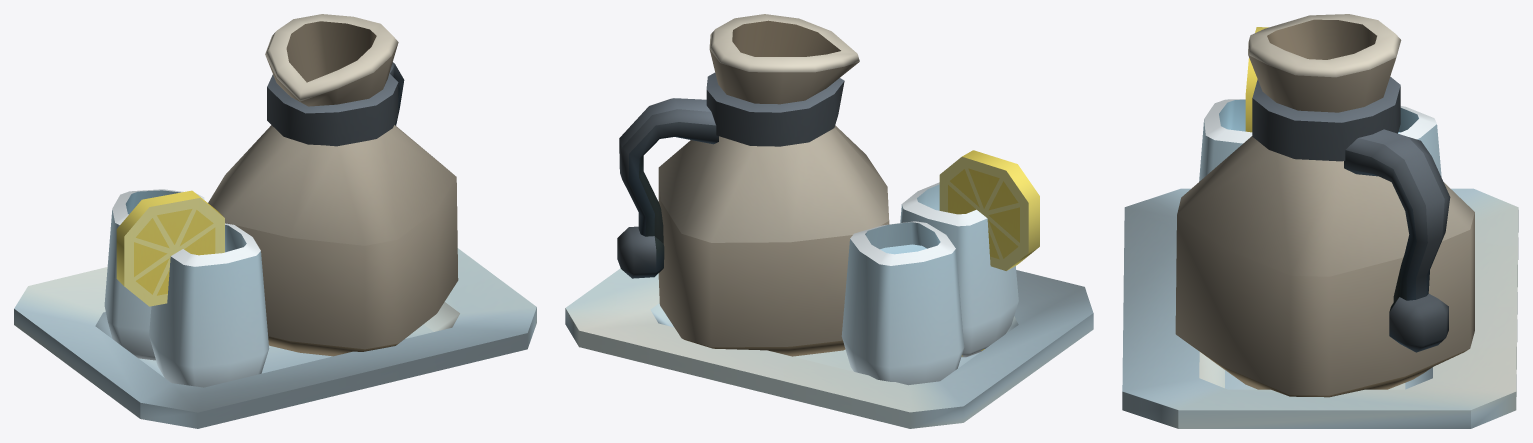
File: tray_water.fbx
3 renders of one model, left to right at view 1: azimuth 30°, elevation 25°; view 2: azimuth 150°, elevation 25°; view 3: azimuth 270°, elevation 25°, orthographic. The views are drawn at different scales.
Parts seen in each view (by area): view 1: tray_water; view 2: tray_water; view 3: tray_water.
Boxes of the visible parts, x1,y1,x2,y2 form: tray_water: (14, 14, 536, 428); tray_water: (565, 14, 1093, 428); tray_water: (1122, 14, 1518, 428).
Size of the model in its own units: 76.07 by 53.55 by 57.28.
